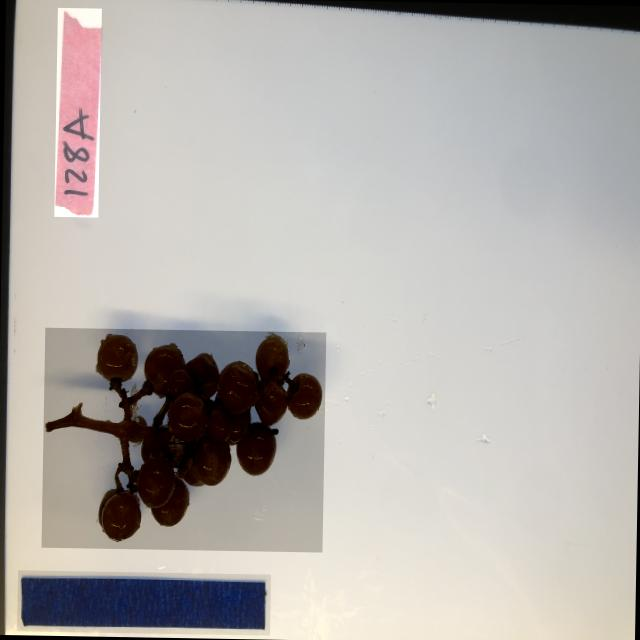grape_cluster: (41, 328, 326, 552)
index: (54, 7, 102, 217)
measure_label: (17, 570, 270, 635)
